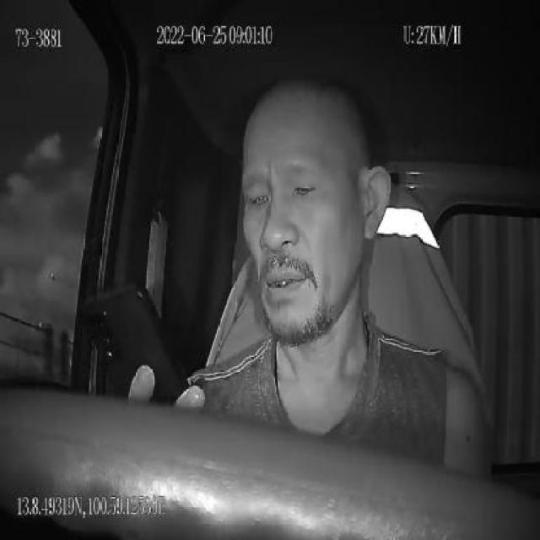phone: (79, 281, 191, 406)
